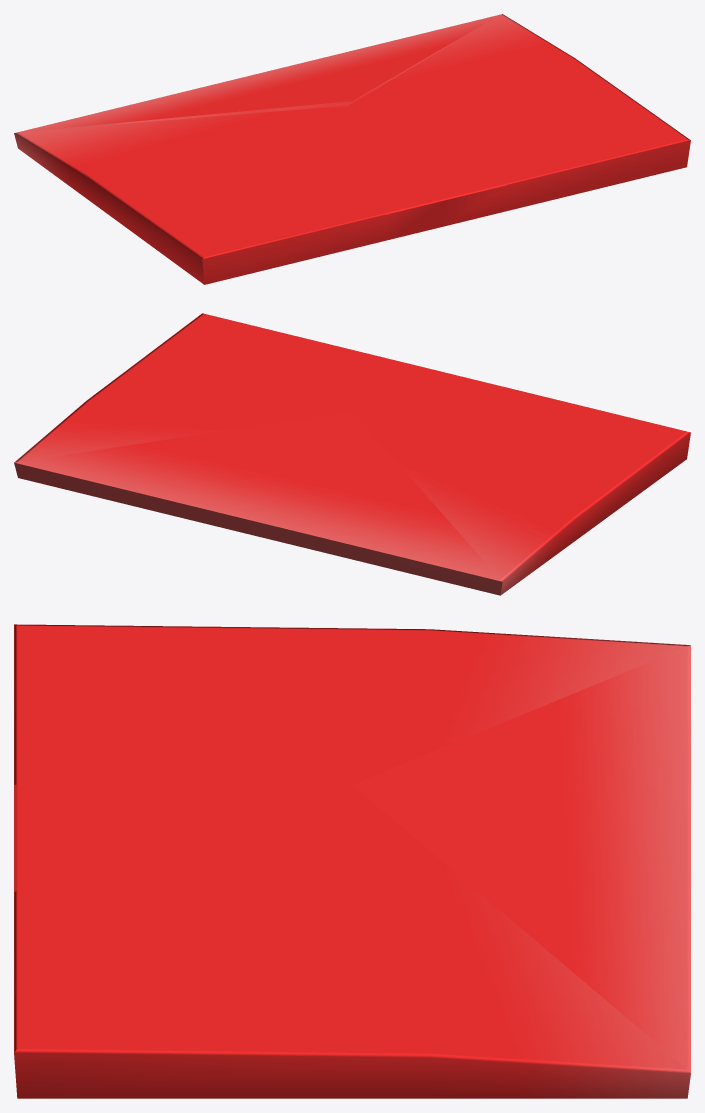
The model's file is Envelope.fbx.
3 views of the same model, one above another, from view 1: azimuth 30°, elevation 25°; view 2: azimuth 150°, elevation 25°; view 3: azimuth 270°, elevation 25° (orthographic). The views are drawn at different scales.
Visible parts, largest first — view 1: Envelope_Container, Envelope_Mouth; view 2: Envelope_Container, Envelope_Mouth; view 3: Envelope_Container, Envelope_Mouth.
Boxes of the visible parts, x1,y1,x2,y2 form: Envelope_Container: (14,14,690,284); Envelope_Mouth: (17,14,500,132); Envelope_Container: (14,313,690,595); Envelope_Mouth: (15,412,501,581); Envelope_Container: (14,624,690,1098); Envelope_Mouth: (352,645,690,1073).
Bounding box in the file's own units: 9.22 × 1.01 × 6.15.
